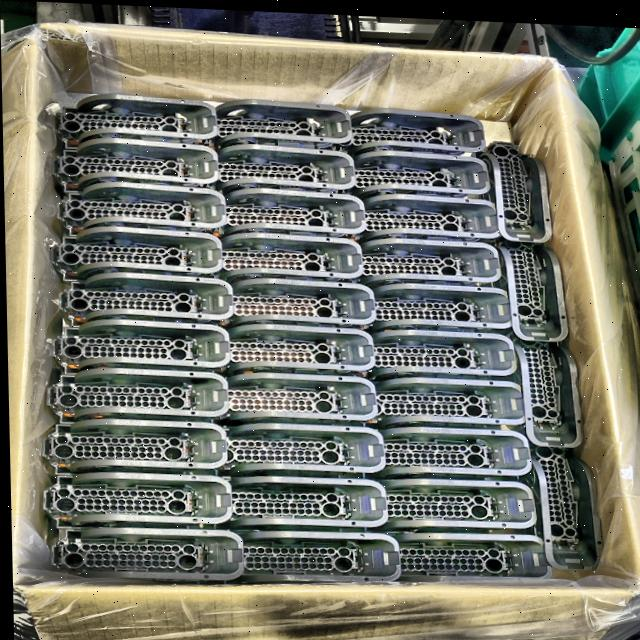P38: (509, 439, 604, 565), (184, 422, 384, 481), (39, 418, 225, 475), (41, 472, 229, 528), (199, 370, 376, 428), (45, 367, 227, 423), (196, 322, 374, 379), (212, 474, 386, 532), (48, 527, 241, 579), (50, 318, 229, 374), (363, 475, 535, 532), (57, 271, 232, 327), (49, 226, 221, 281), (51, 137, 218, 193), (227, 527, 399, 581), (54, 93, 217, 149), (505, 326, 583, 443), (55, 182, 225, 235), (478, 235, 567, 336), (195, 230, 363, 283), (465, 137, 551, 239), (372, 423, 531, 478), (188, 97, 352, 150), (204, 276, 374, 327), (200, 186, 366, 238), (362, 374, 523, 427), (351, 326, 515, 378), (192, 142, 355, 194), (337, 234, 501, 284), (341, 190, 500, 241), (350, 281, 511, 331), (387, 529, 550, 578), (331, 147, 490, 197), (334, 105, 485, 154)
